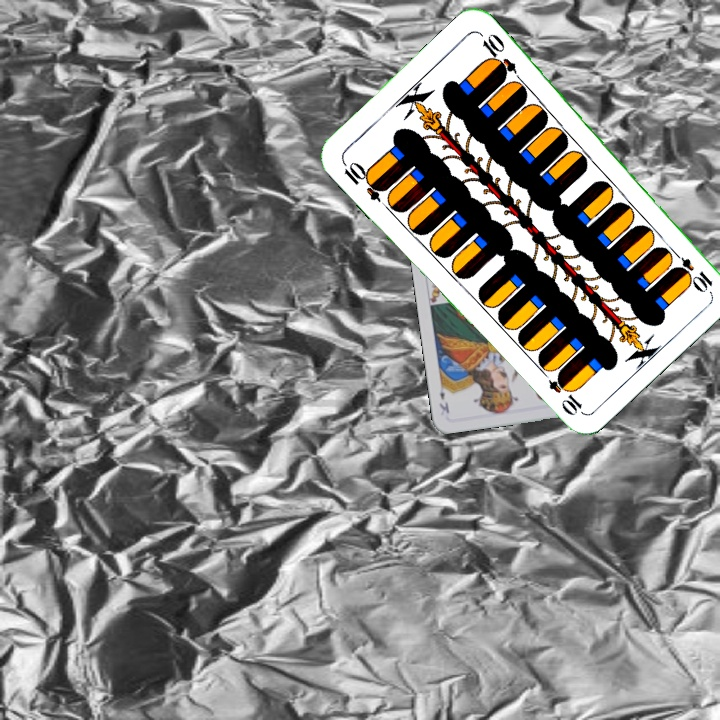E10: (666, 245, 716, 294), (337, 156, 388, 204)
